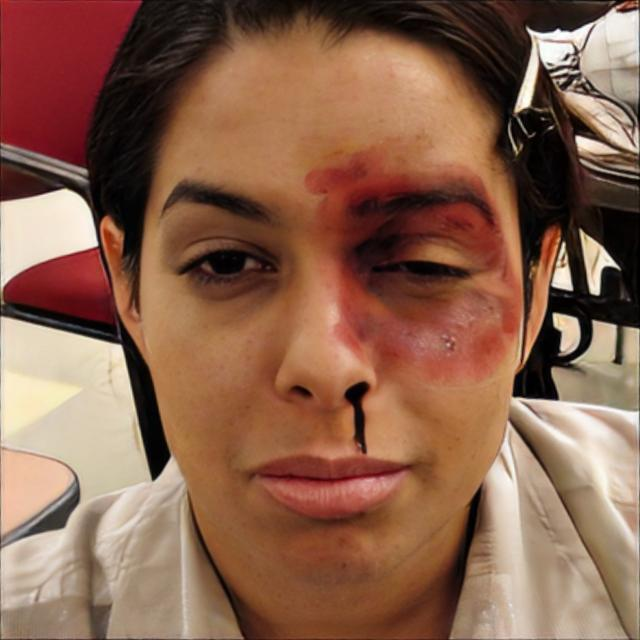content: (136, 36, 524, 596)
